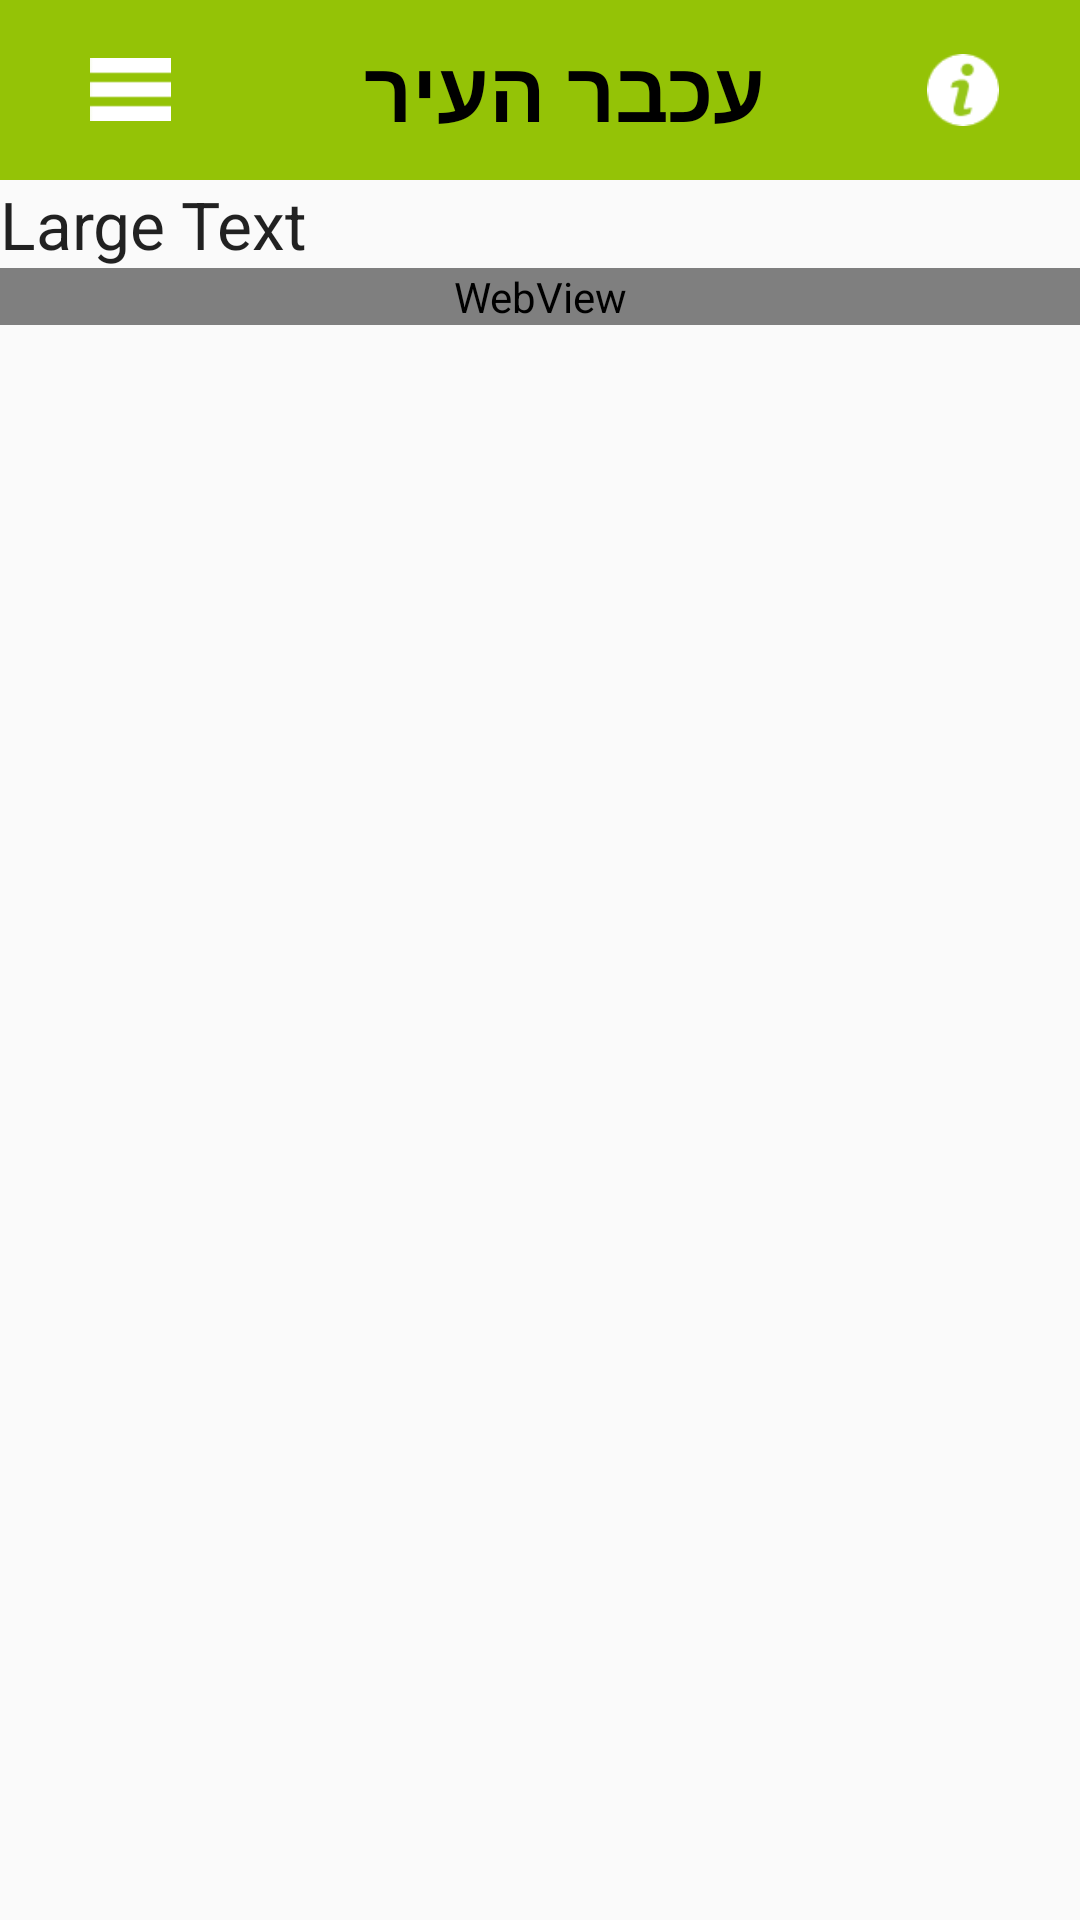

Locate icon controls on the screen. Image size 1080*1920, boxes as (x1, y1, x2, y2).
burger: (90, 58, 171, 121)
info: (927, 54, 999, 126)
